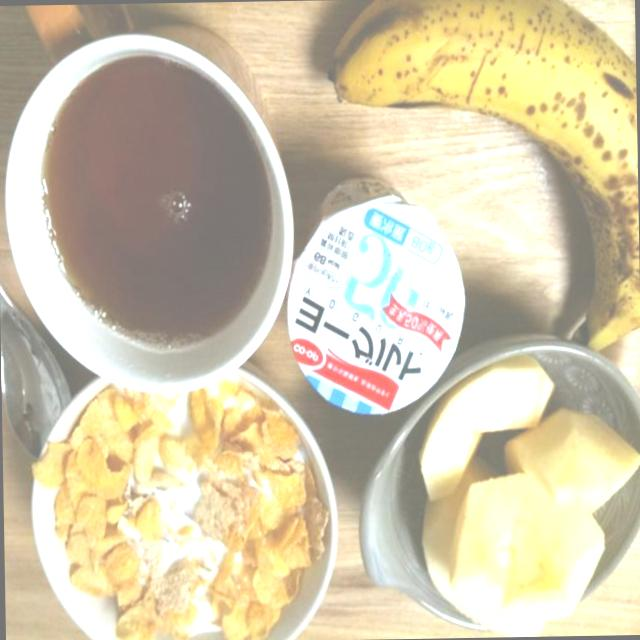Banana: (324, 3, 640, 361)
